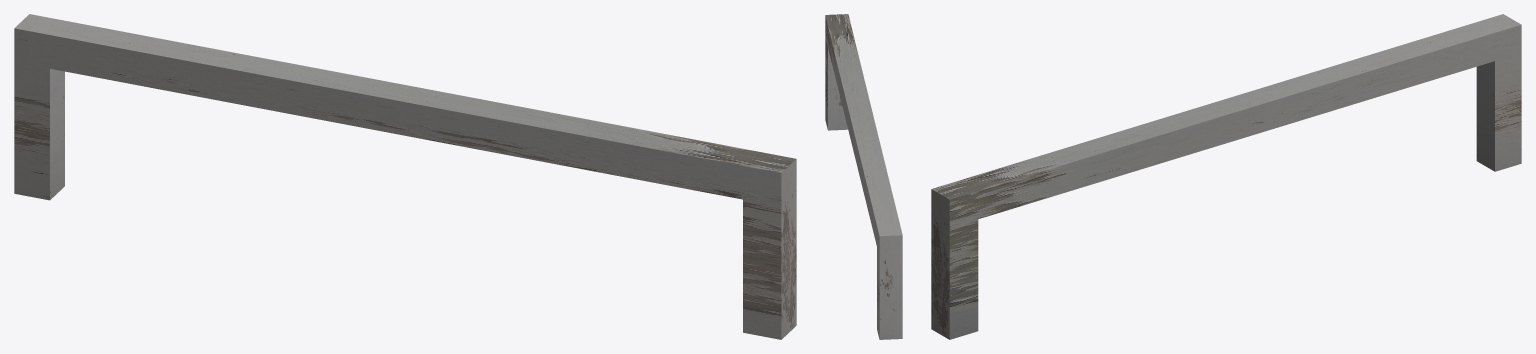
The picture shows the model from 3 angles, left to right: view 1: azimuth 30°, elevation 25°; view 2: azimuth 150°, elevation 25°; view 3: azimuth 270°, elevation 25°; orthographic projection. The views are drawn at different scales.
Visible parts, largest first — view 1: 5.006; view 2: 5.006; view 3: 5.006.
Boxes of the visible parts, left/top/right/bottom form: 5.006: left=14, top=14, right=796, bottom=339; 5.006: left=825, top=14, right=902, bottom=339; 5.006: left=931, top=14, right=1521, bottom=339.
Bounding box in the file's own units: 170 × 59.87 × 228.
